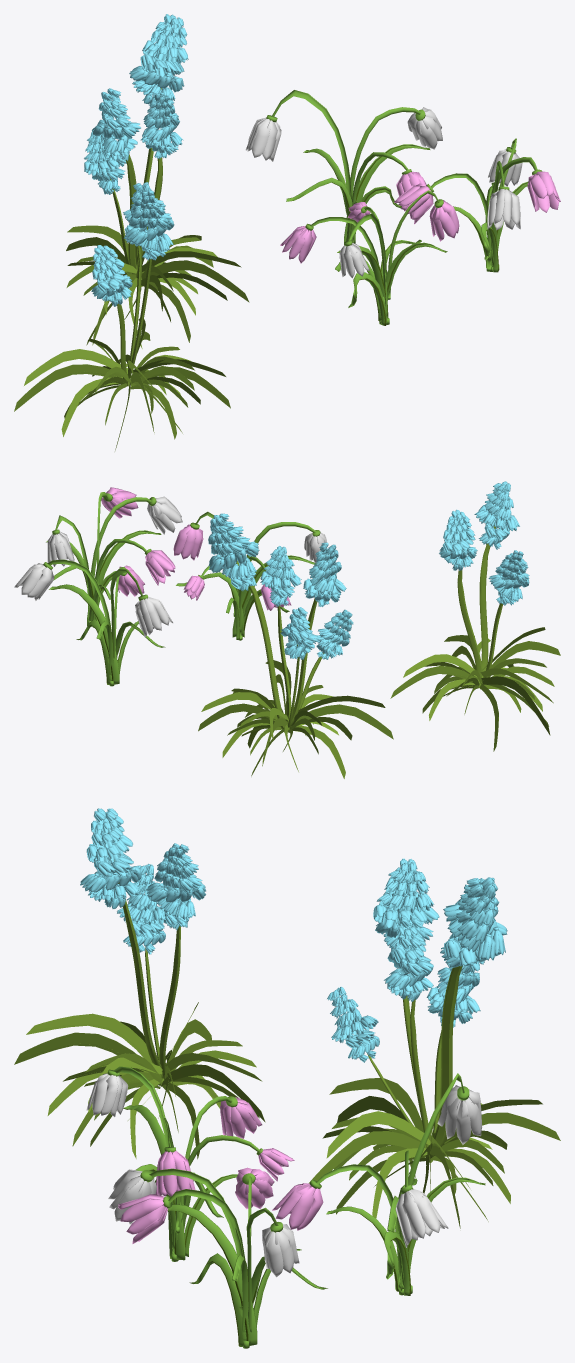
File: flowers_lib.glb
The picture shows the model from 3 angles, top to bottom: view 1: azimuth 30°, elevation 25°; view 2: azimuth 150°, elevation 25°; view 3: azimuth 270°, elevation 25°; orthographic projection. The views are drawn at different scales.
Visible parts, largest first — view 1: BezierCurve.003, Plane.000, lakegrass.001, Cylinder.005, lakegrass.006; view 2: BezierCurve.003, Plane.000, lakegrass.006, lakegrass.001, Cylinder.005; view 3: BezierCurve.003, Plane.000, lakegrass.006, lakegrass.001, Cylinder.005.
Part boxes in pixels (left/top/right/bottom): BezierCurve.003: left=66, top=14, right=249, bottom=348; Plane.000: left=14, top=182, right=230, bottom=450; lakegrass.001: left=245, top=90, right=442, bottom=245; Cylinder.005: left=280, top=190, right=459, bottom=325; lakegrass.006: left=394, top=138, right=560, bottom=272; BezierCurve.003: left=198, top=513, right=393, bottom=778; Plane.000: left=390, top=481, right=560, bottom=751; lakegrass.006: left=46, top=487, right=182, bottom=627; lakegrass.001: left=14, top=559, right=172, bottom=686; Cylinder.005: left=173, top=511, right=326, bottom=640; BezierCurve.003: left=309, top=858, right=560, bottom=1228; Plane.000: left=14, top=808, right=265, bottom=1159; lakegrass.006: left=108, top=1167, right=327, bottom=1348; lakegrass.001: left=272, top=1073, right=485, bottom=1295; Cylinder.005: left=86, top=1066, right=294, bottom=1261.
Size of the model in its own units: 7.77 by 3.84 by 5.14.
